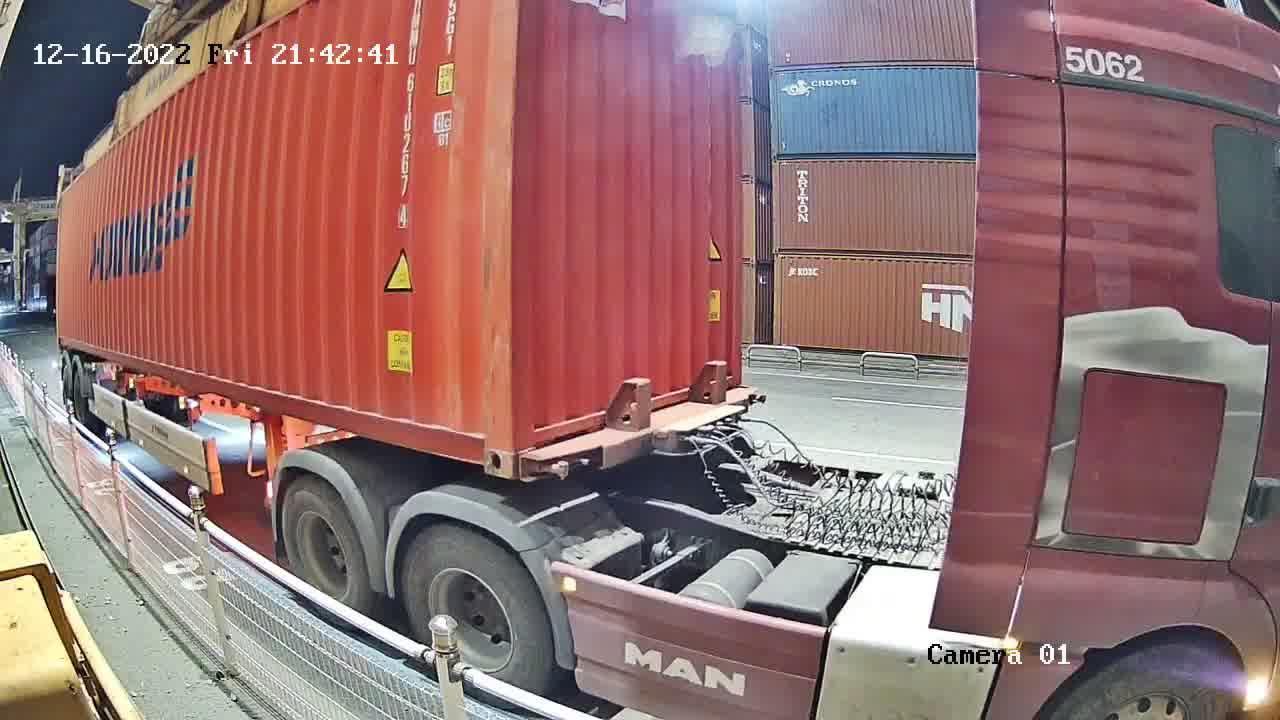Chassis: (515, 381, 764, 484)
Hole_R: (460, 400, 513, 480)
Tire: (405, 529, 557, 697), (279, 482, 370, 612)
